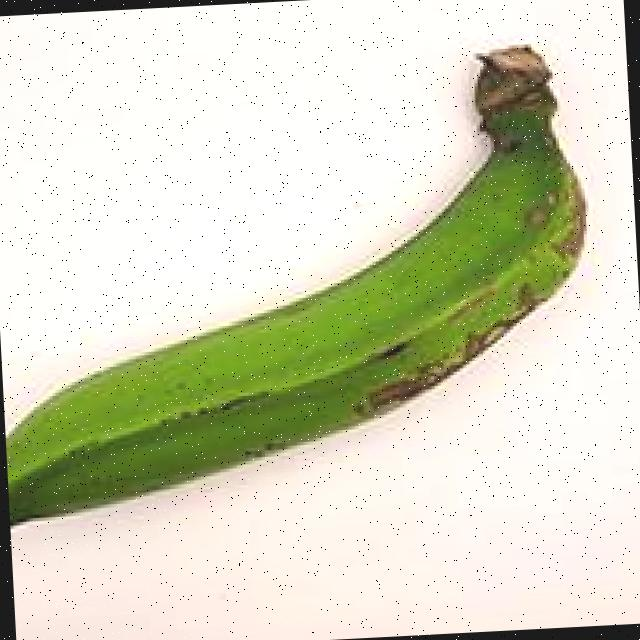Raw: (0, 21, 623, 532)
